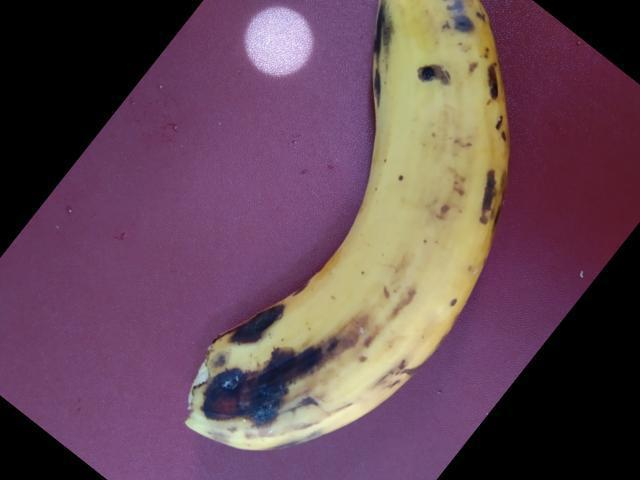overripe: (167, 0, 537, 461)
